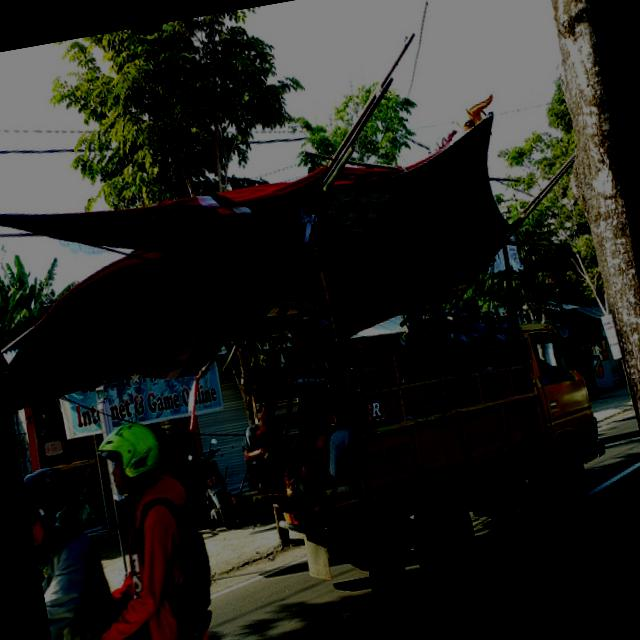Vehicle: (205, 191, 628, 623), (184, 444, 237, 534)
